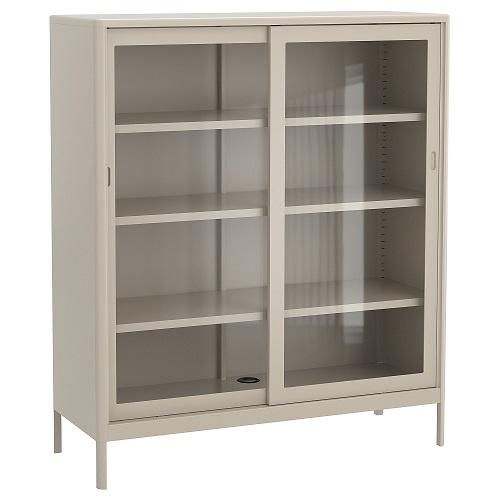cabinet_door: (109, 23, 277, 409), (270, 22, 440, 396)
handle: (429, 148, 438, 173), (106, 163, 114, 190)
